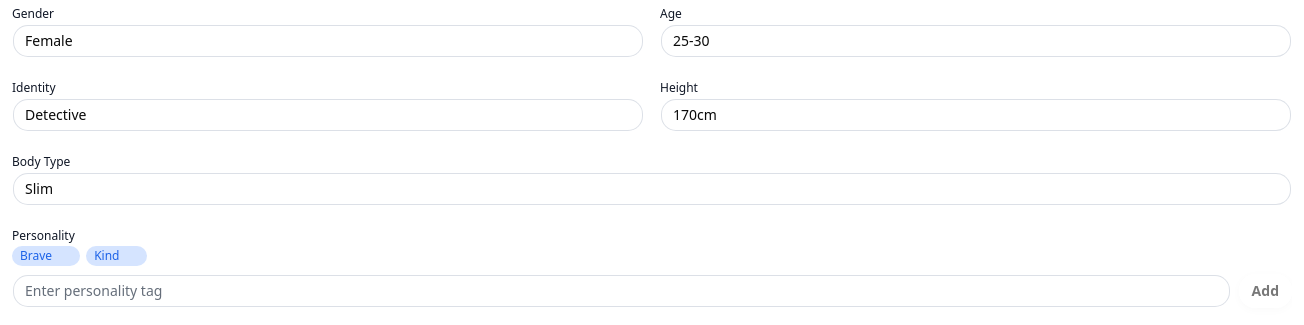
CharacterPropertyEditor › adds new personality tag
Type "Smart" into the field with placeholder "Enter personality tag". click: x=621, y=291
box: top-left (12, 274), bottom-right (1231, 308)
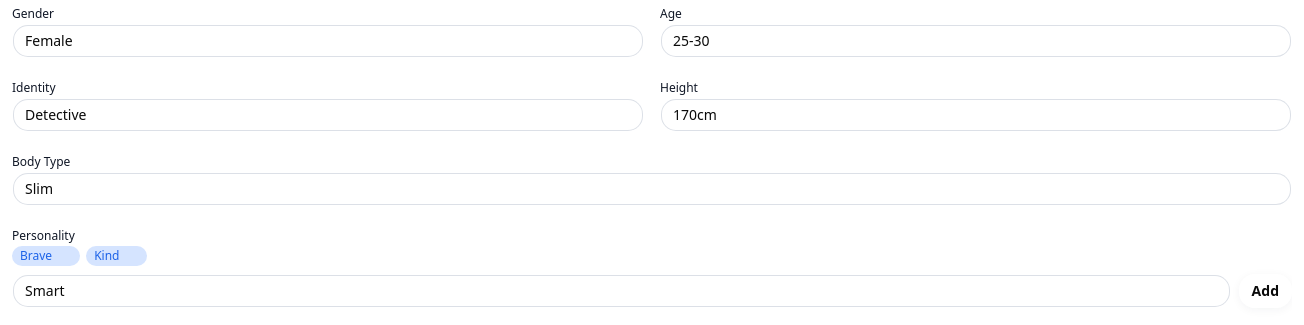
Press Enter in the field with placeholder "Enter personality tag" below "Brave", box top-left (12, 274), bottom-right (1231, 308)
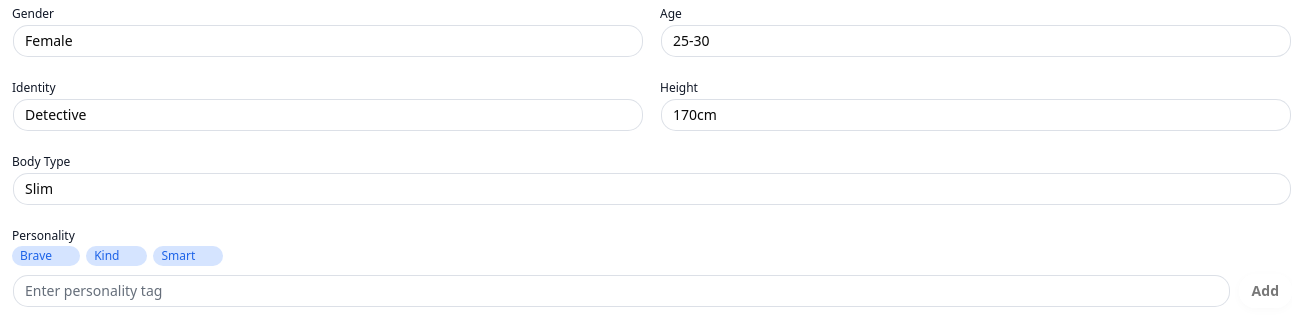
Now the text "Smart" is shown, box top-left (154, 246), bottom-right (223, 266)
